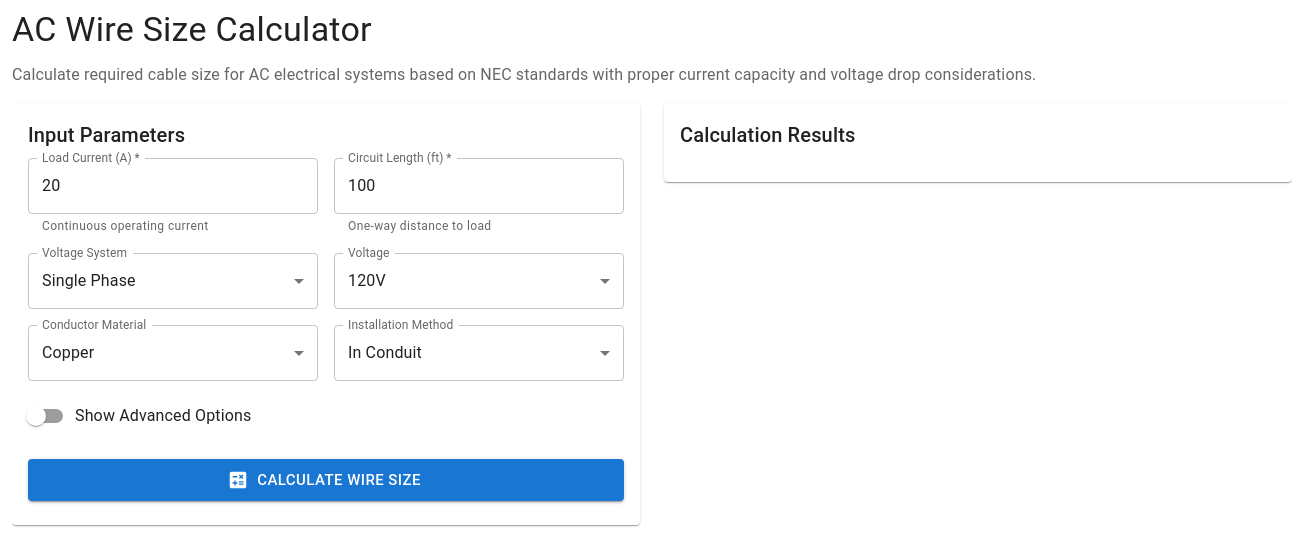
Wire Calculator Input Fields › UniversalWireCalculator Input Handling › should prevent leading zeros in load current field
Note: Type value with leading zero
Replace the text in the field labelled "Load Current (A) *" with "02": {"x": 173, "y": 186} [28, 158, 318, 214]
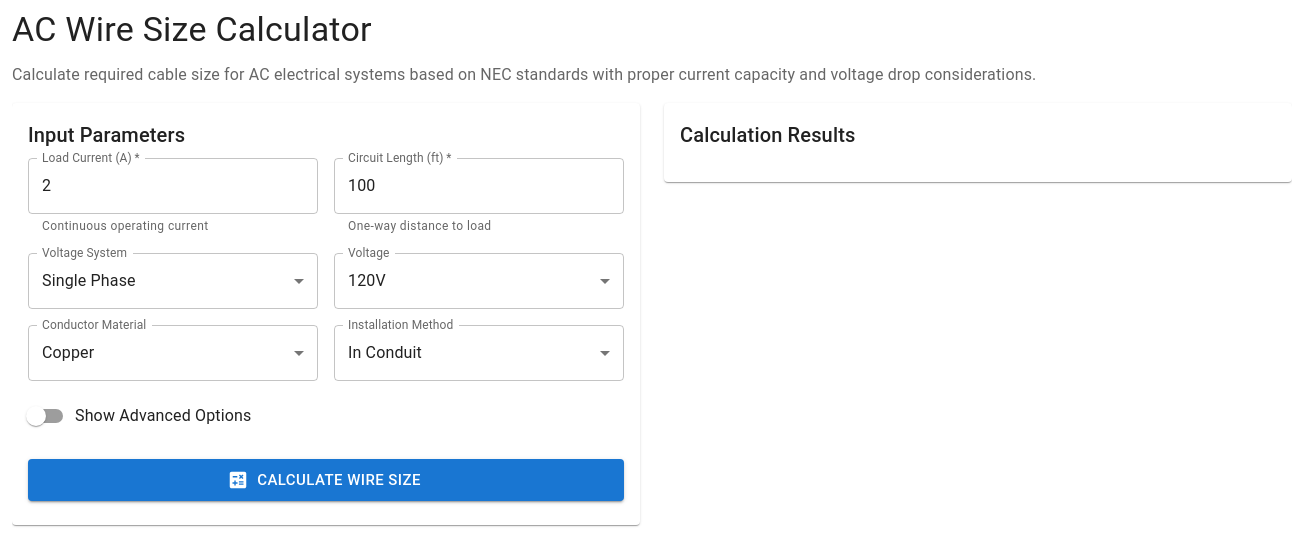
Now the field labelled "Load Current (A) *" holds "2", box [28, 158, 318, 214]
